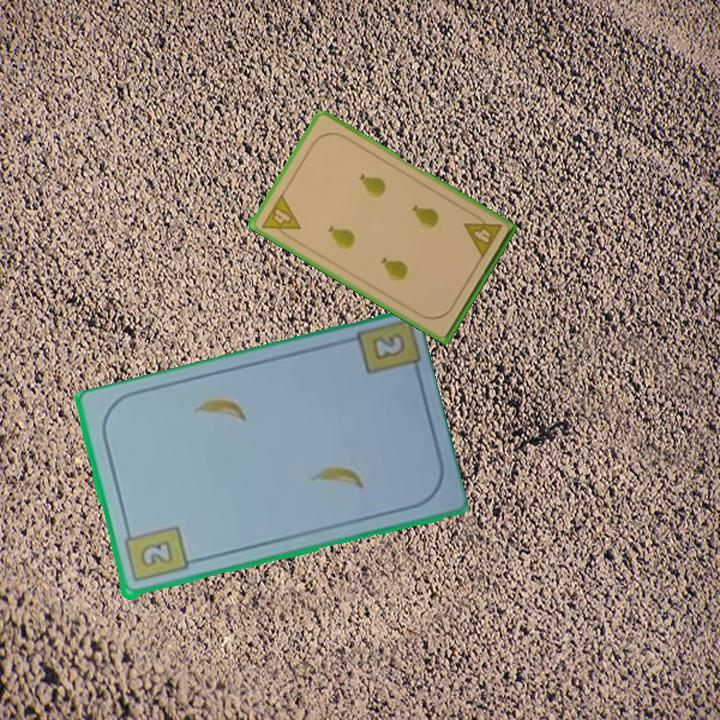2b: (120, 523, 190, 586), (368, 329, 408, 364)
4p: (258, 190, 303, 243), (460, 209, 505, 261)
